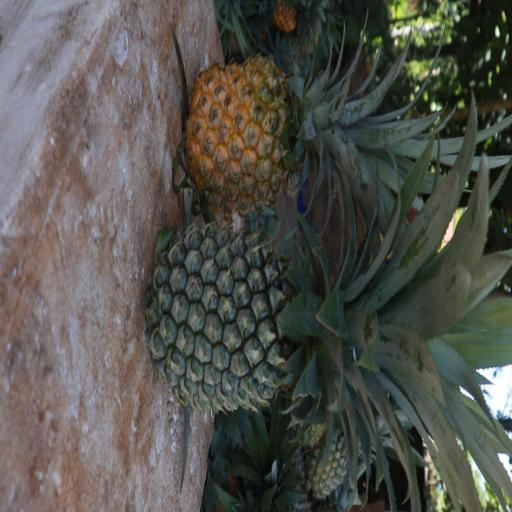Pineapple - v8 v1: (187, 61, 447, 201)
